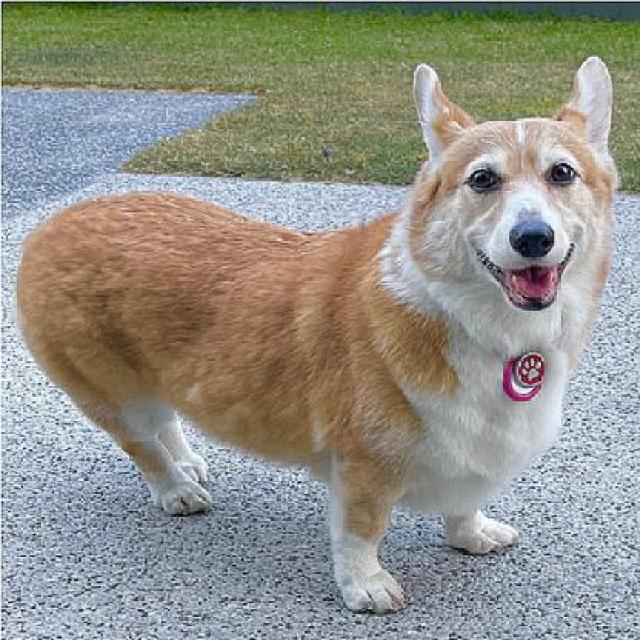Dog: (17, 60, 625, 617)
